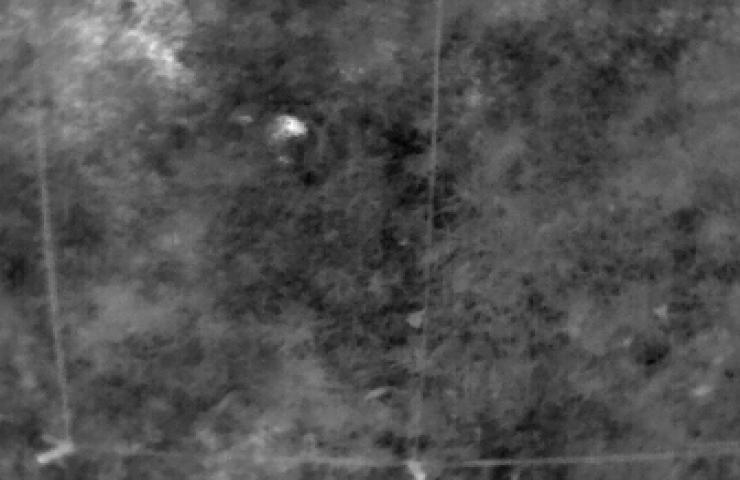landmines: (276, 114, 311, 148)
